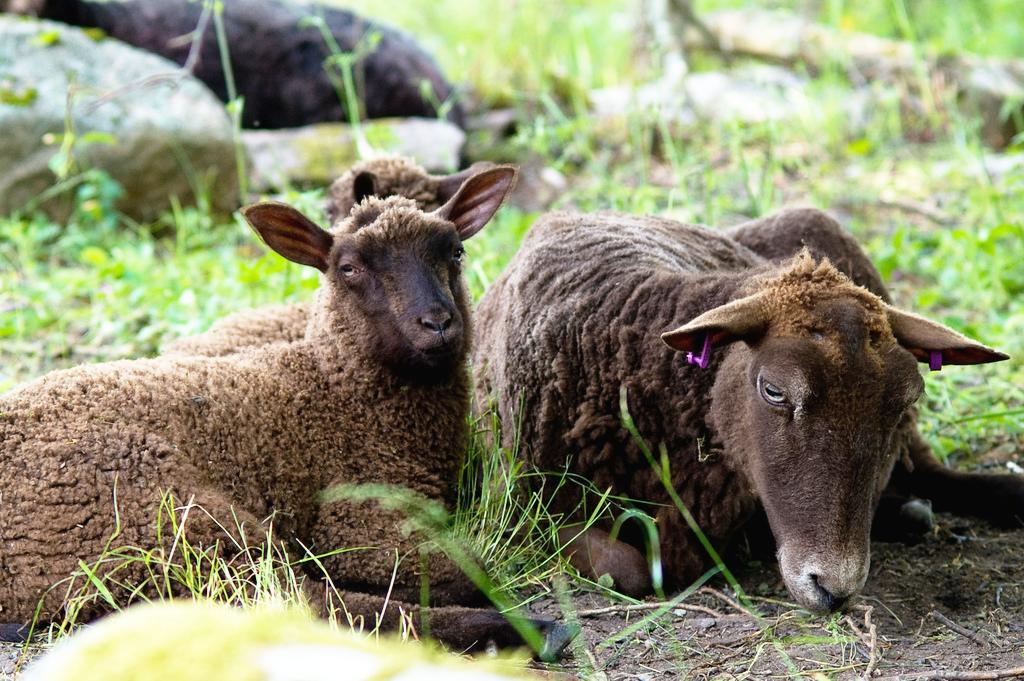Sheep: (0, 163, 581, 666), (470, 208, 1024, 614), (162, 155, 486, 356)
